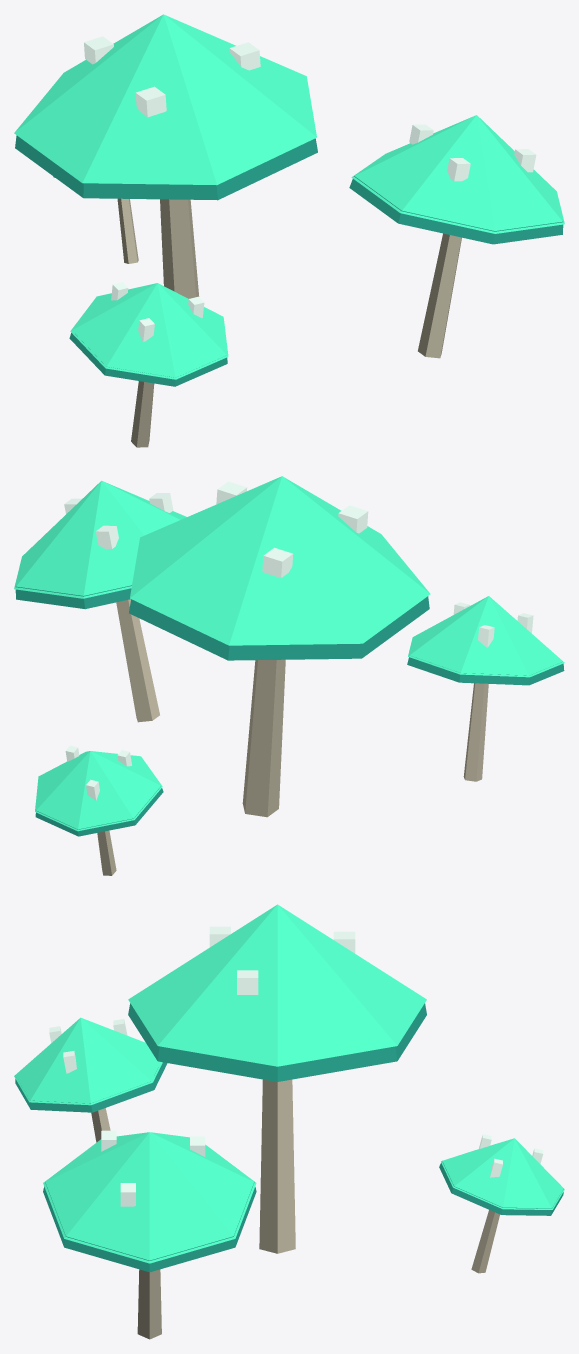
The model's file is dk_shrooms.glb.
The picture shows the model from 3 angles, top to bottom: view 1: azimuth 30°, elevation 25°; view 2: azimuth 150°, elevation 25°; view 3: azimuth 270°, elevation 25°; orthographic projection. The views are drawn at different scales.
Visible parts, largest first — view 1: dk_shrooms; view 2: dk_shrooms; view 3: dk_shrooms.
Boxes of the visible parts, x1,y1,x2,y2 form: dk_shrooms: (14,14,564,447); dk_shrooms: (14,476,564,875); dk_shrooms: (14,904,564,1339).
Bounding box in the file's own units: 1.54 × 1.01 × 1.51.
Materials: 2 (2 with a texture image).
